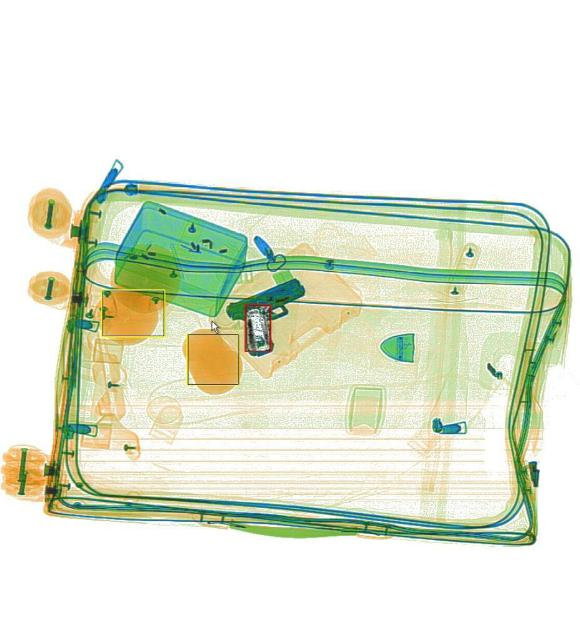Gun: (222, 276, 318, 358)
